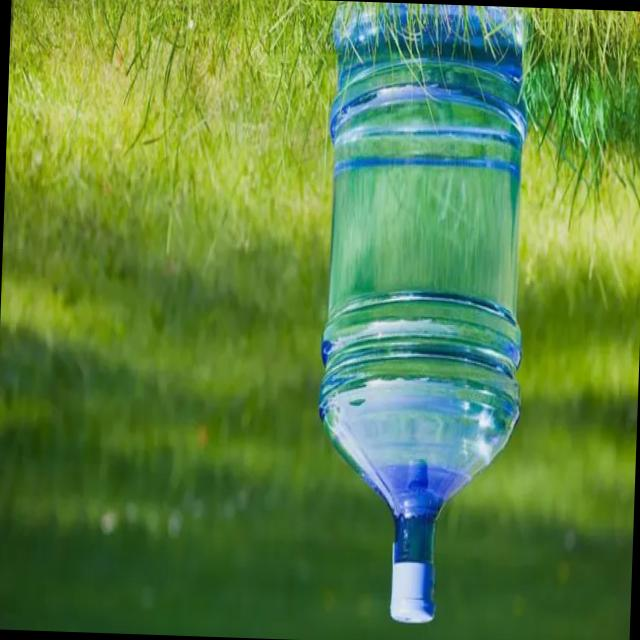Galon: (310, 3, 536, 628)
